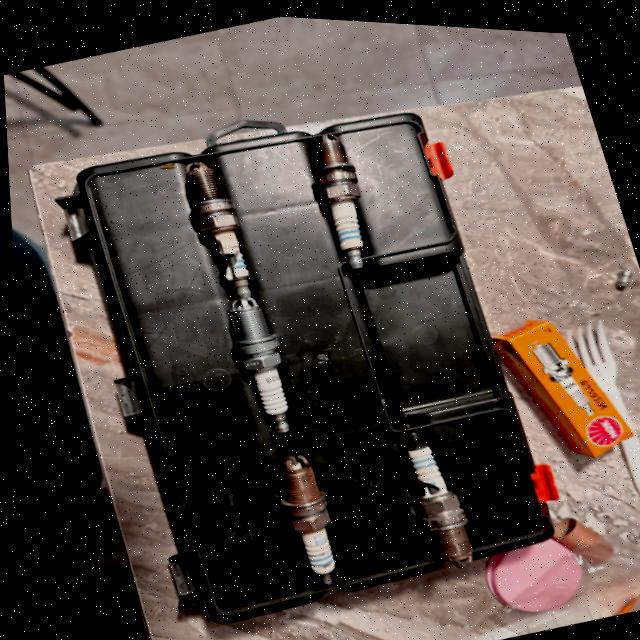damaged_spark-plug: (380, 414, 475, 571), (172, 147, 262, 303)
spark-plug: (298, 118, 389, 274), (258, 439, 350, 592), (218, 289, 305, 438)
